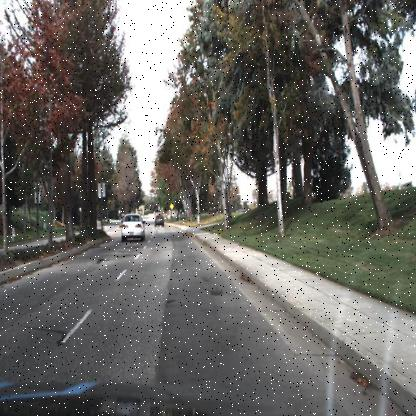car: (120, 211, 145, 242), (155, 213, 165, 228)
